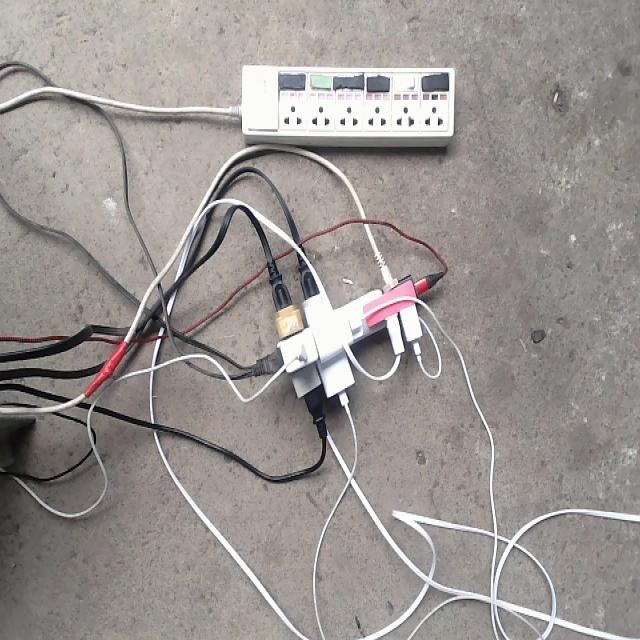-: (253, 255, 438, 441)
